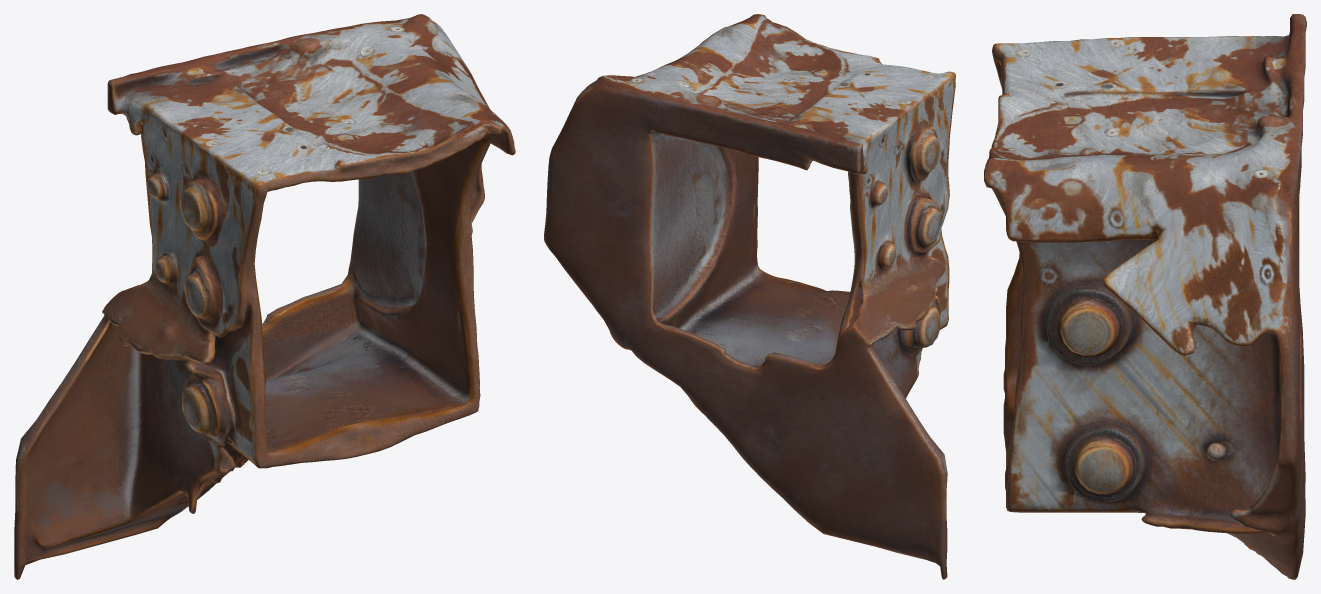
File: debris_twisted_1.glb
The picture shows the model from 3 angles, left to right: view 1: azimuth 30°, elevation 25°; view 2: azimuth 150°, elevation 25°; view 3: azimuth 270°, elevation 25°; orthographic projection. The views are drawn at different scales.
Bounding box in the file's own units: 1.91 × 1.87 × 0.9706.
Materials: 1 (1 with a texture image).
